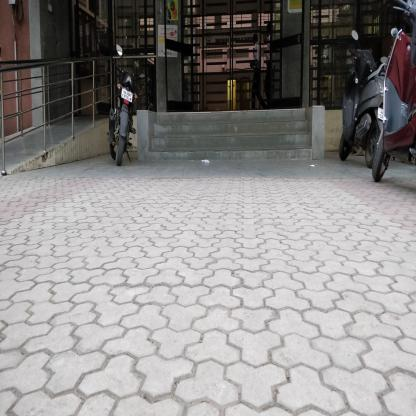stairs: (161, 109, 297, 169)
